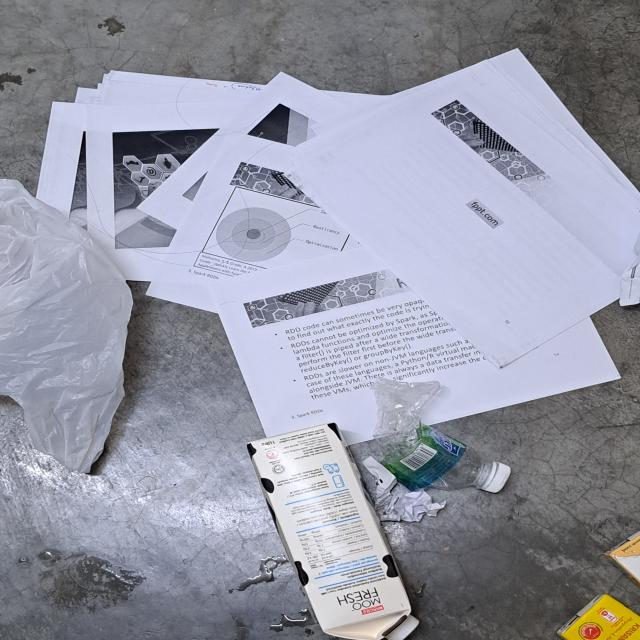drink carton: (248, 422, 422, 640), (556, 594, 640, 640), (611, 528, 640, 581)
paper: (41, 44, 640, 438), (355, 454, 447, 526)
plastic bag: (0, 176, 132, 477)
plastic bottle: (366, 378, 516, 491)
plastic bottle cap: (480, 460, 514, 490)
